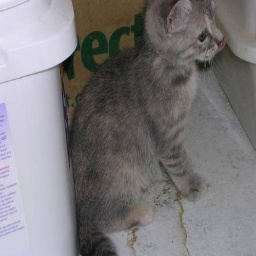cat: (78, 0, 222, 244)
